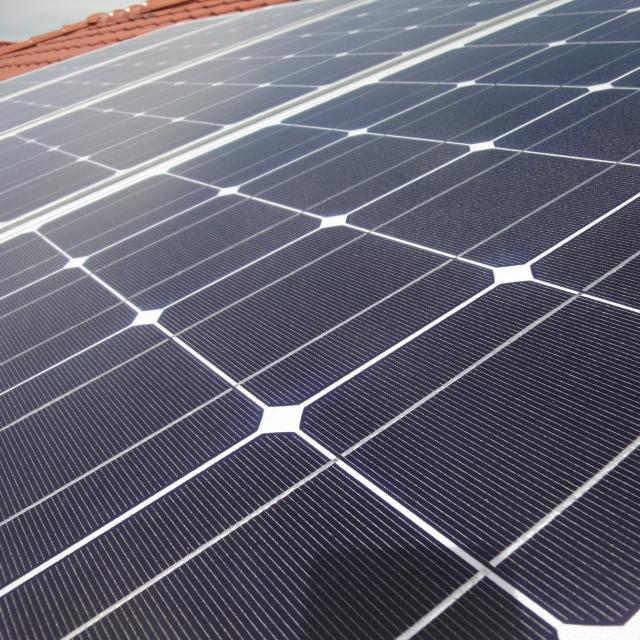clean-solar-panel: (2, 0, 638, 640)
